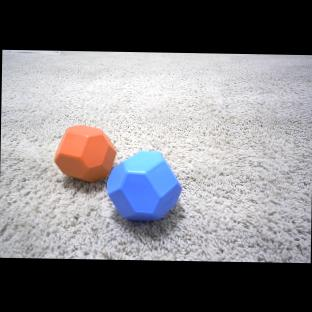V5_BLUE: (106, 148, 183, 225)
V5_RED: (57, 124, 113, 183)
